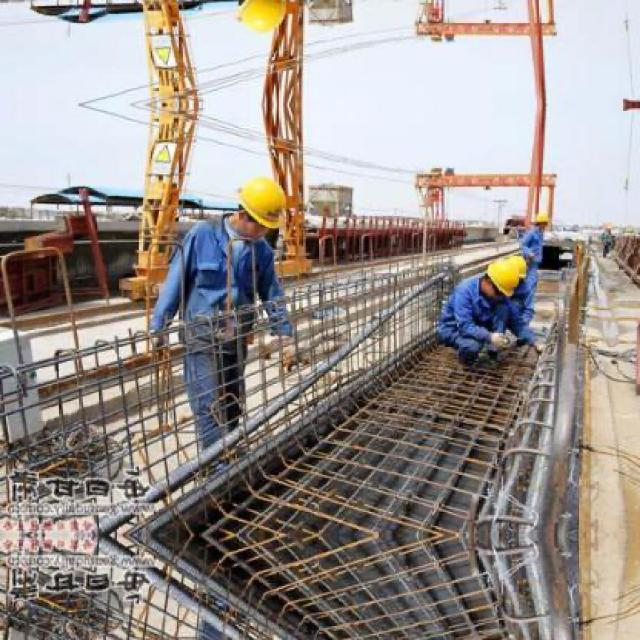con casco: (214, 151, 320, 268), (450, 257, 549, 333)
